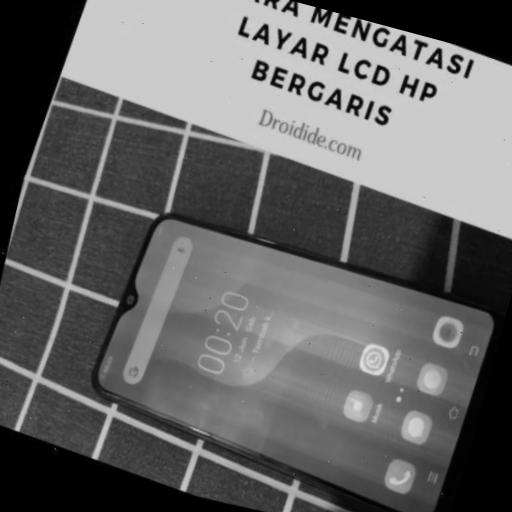phone: (80, 205, 505, 512)
